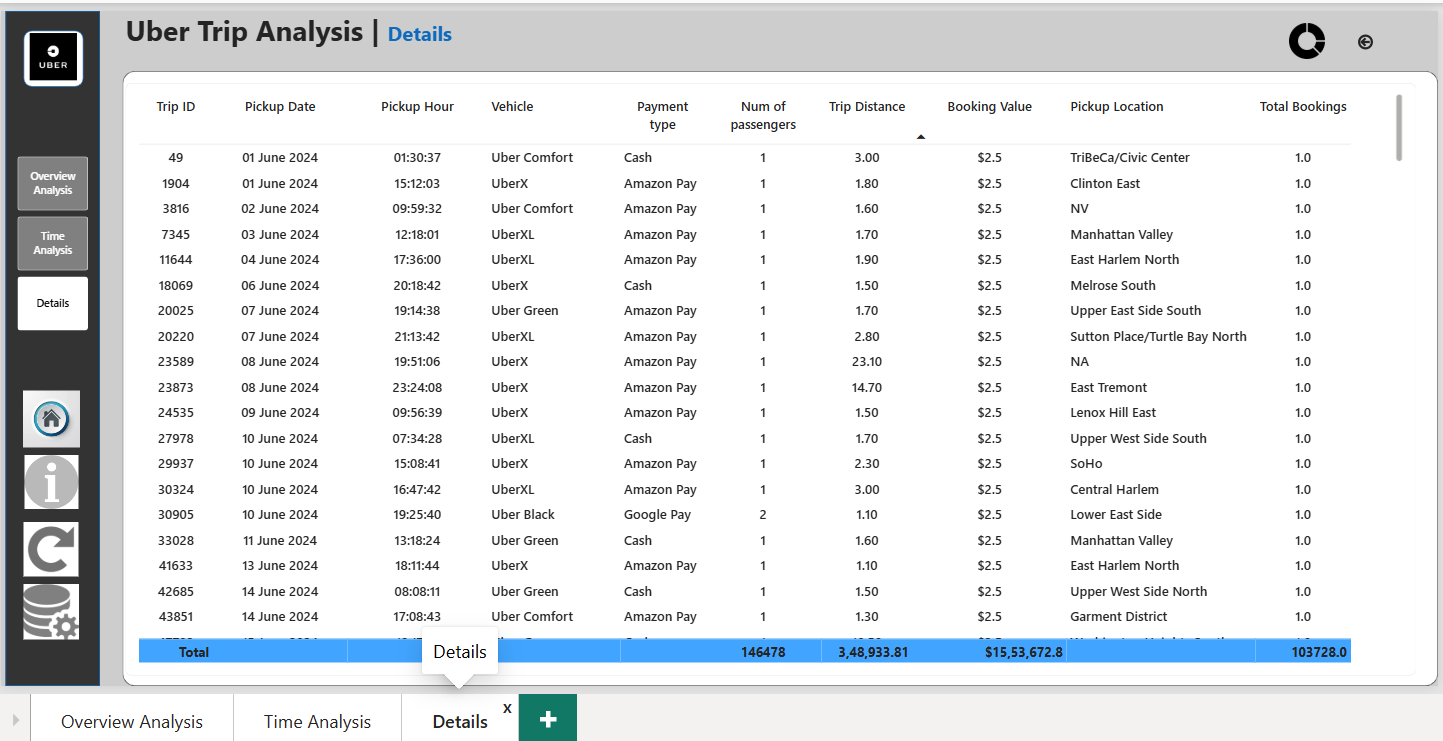

The dashboard page shown, as its layout file describes it:
{"tool":"powerbi","page":{"name":"Details","canvas":[1915,900],"ordinal":2},"visuals":[{"type":"shape","box":[162,80,1754,820],"z":0},{"type":"shape","box":[6,0,126,900],"z":1000},{"type":"textbox","box":[166,0,592,80],"z":2000},{"type":"tableEx","fields":{"Values":["Trip Details.Trip ID","Trip Details.Pickup Date","Trip Details.Pickup Hour(HH MM SS)","Trip Details.Vehicle","Trip Details.Payment_type","Sum(Trip Details.passenger_count)","Trip Details.Total Trip Distance Measure","Trip Details.Total Booking Value","Location Table.Location","Trip Details.Total Bookings"]},"box":[166,96,1720,790],"z":3000},{"type":"actionButton","box":[1778,14,82,54],"z":4000},{"type":"image","box":[1662,16,158,48],"z":5000},{"type":"pageNavigator","box":[22,194,94,234],"z":6000},{"type":"group","id":"g1","title":"Group 1","box":[26,26,87,75],"z":7000},{"type":"image","box":[20,506,94,76],"z":8000},{"type":"image","box":[24,592,86,72],"z":9000},{"type":"image","box":[30,678,73,79],"z":10000},{"type":"image","box":[30,754,74,94],"z":11000},{"type":"textbox","box":[100,100,300,300],"z":11001},{"type":"shape","box":[30,26,80,75],"z":31000,"group":"g1"},{"type":"image","box":[26,26,87,70],"z":32000,"group":"g1"}]}

Visuals, with their boxes on the page's 1915x900 design canvas (x1, y1, x2, y2). These are canvas units, not pixel positions in the 1443x741 screenshot, which may show the page scaled, cropped or inside an application window:
shape: <region>162, 80, 1916, 900</region>
shape: <region>6, 0, 132, 900</region>
textbox: <region>166, 0, 758, 80</region>
tableEx - Trip Details.Trip ID x Trip Details.Pickup Date: <region>166, 96, 1886, 886</region>
actionButton: <region>1778, 14, 1860, 68</region>
image: <region>1662, 16, 1820, 64</region>
pageNavigator: <region>22, 194, 116, 428</region>
"Group 1" group: <region>26, 26, 113, 101</region>
image: <region>20, 506, 114, 582</region>
image: <region>24, 592, 110, 664</region>
image: <region>30, 678, 103, 757</region>
image: <region>30, 754, 104, 848</region>
textbox: <region>100, 100, 400, 400</region>
shape: <region>30, 26, 110, 101</region>
image: <region>26, 26, 113, 96</region>
